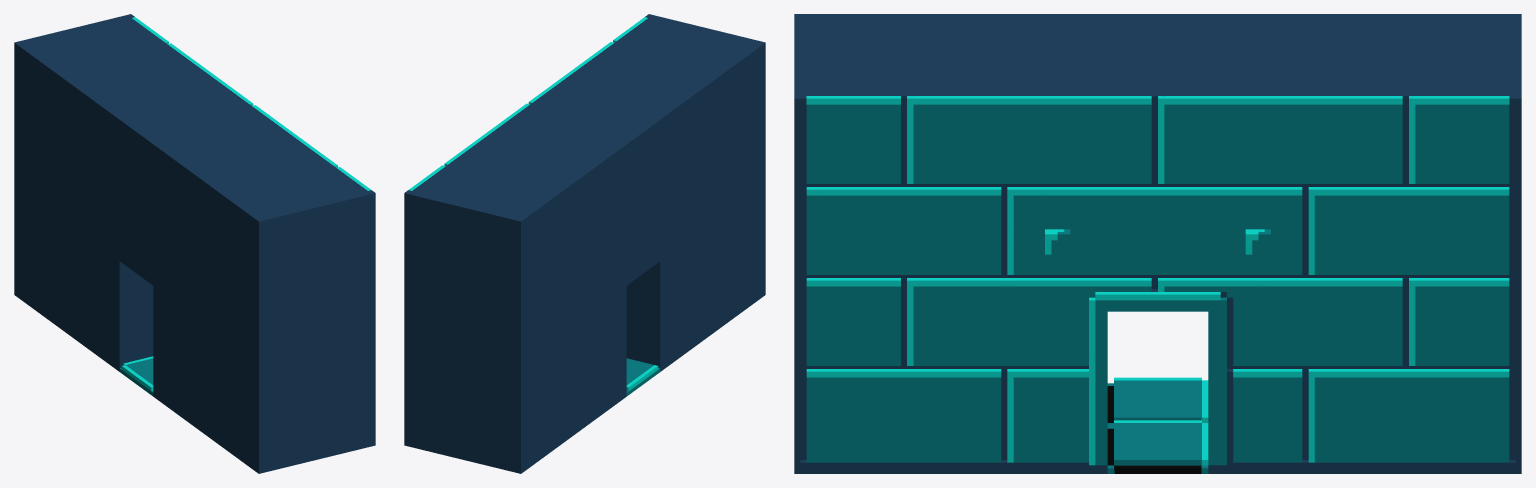
Rendered from WestWallDoor.glb.
The picture shows the model from 3 angles, left to right: view 1: azimuth 30°, elevation 25°; view 2: azimuth 150°, elevation 25°; view 3: azimuth 270°, elevation 25°; orthographic projection. The views are drawn at different scales.
Visible parts, largest first — view 1: WestWallDoor; view 2: WestWallDoor; view 3: WestWallDoor.
Boxes of the visible parts, x1=… form: WestWallDoor: x1=14, y1=14, x2=375, y2=473; WestWallDoor: x1=404, y1=14, x2=765, y2=473; WestWallDoor: x1=794, y1=14, x2=1521, y2=473.
Size of what is drawn, in the model's own units: 3.6 by 6.6 by 11.6.
1 material, 1 textured.
